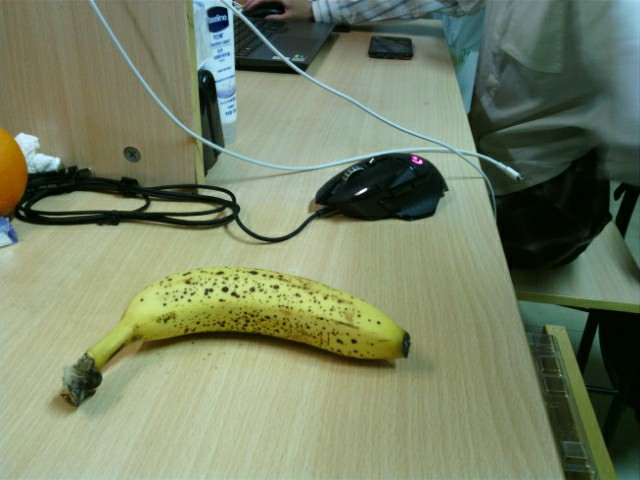normal_banana: (63, 267, 411, 408)
